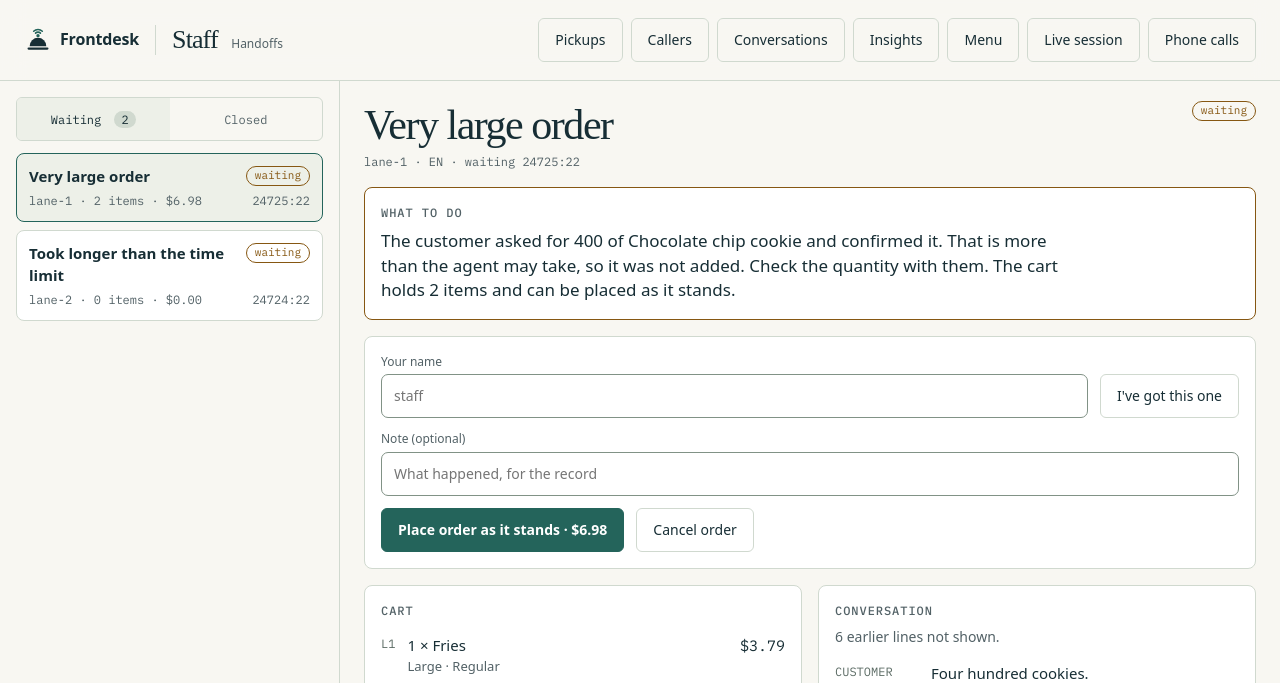
Test case: the staff screen › explains why an order could not be placed, and leaves it open
Click the button "Place order as it stands · $6.98". click: (503, 530)
box: 381,508 -> 624,552
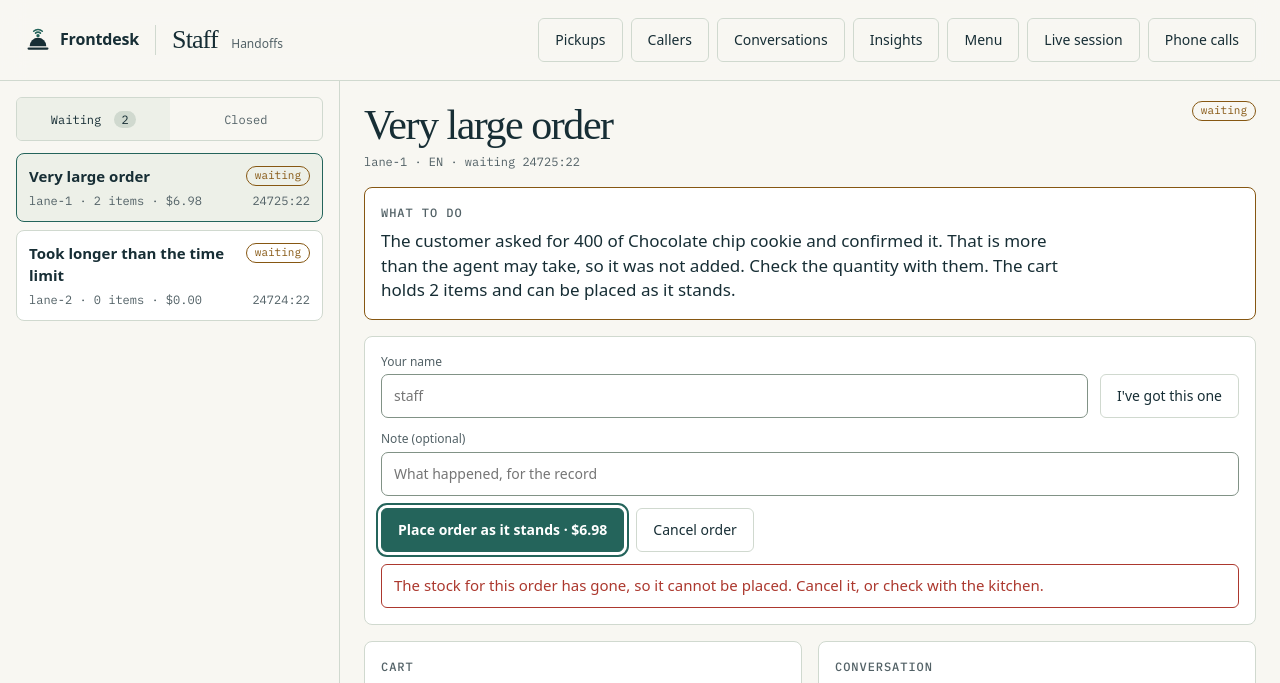
Expected: the element named "Actions" is shown, 364,336 -> 1256,624
Result: the message shows "stock for this order has gone" at 394,575 -> 1044,595
